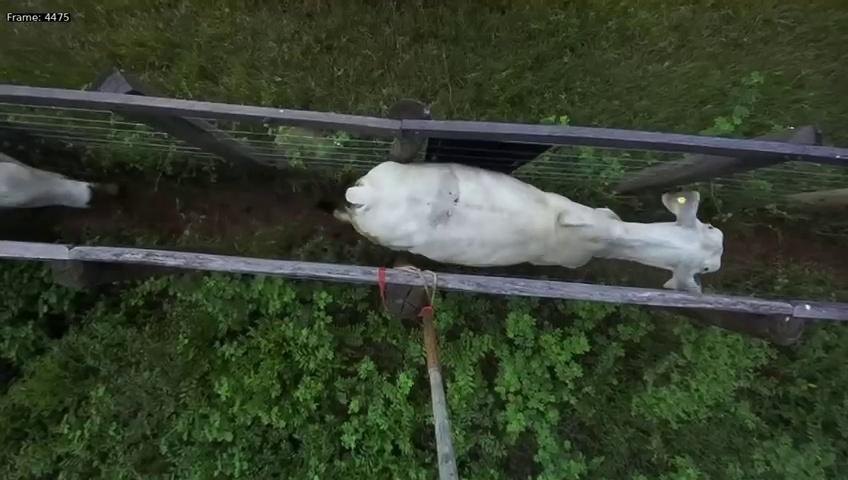cattle: (325, 138, 732, 300)
